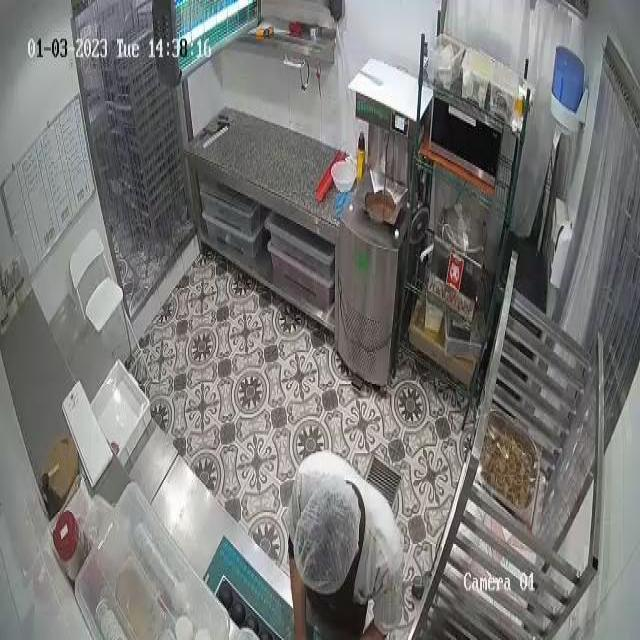hairnet: (298, 477, 354, 578)
